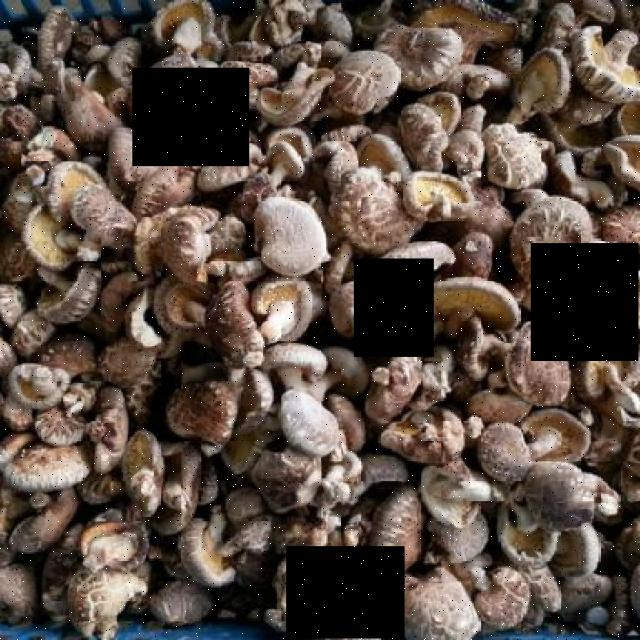Mushroom: (532, 243, 639, 360), (133, 67, 250, 166), (286, 546, 405, 639), (354, 258, 434, 357)
